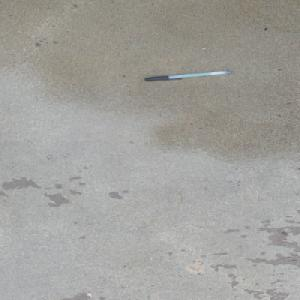Pen: (143, 69, 232, 82)
